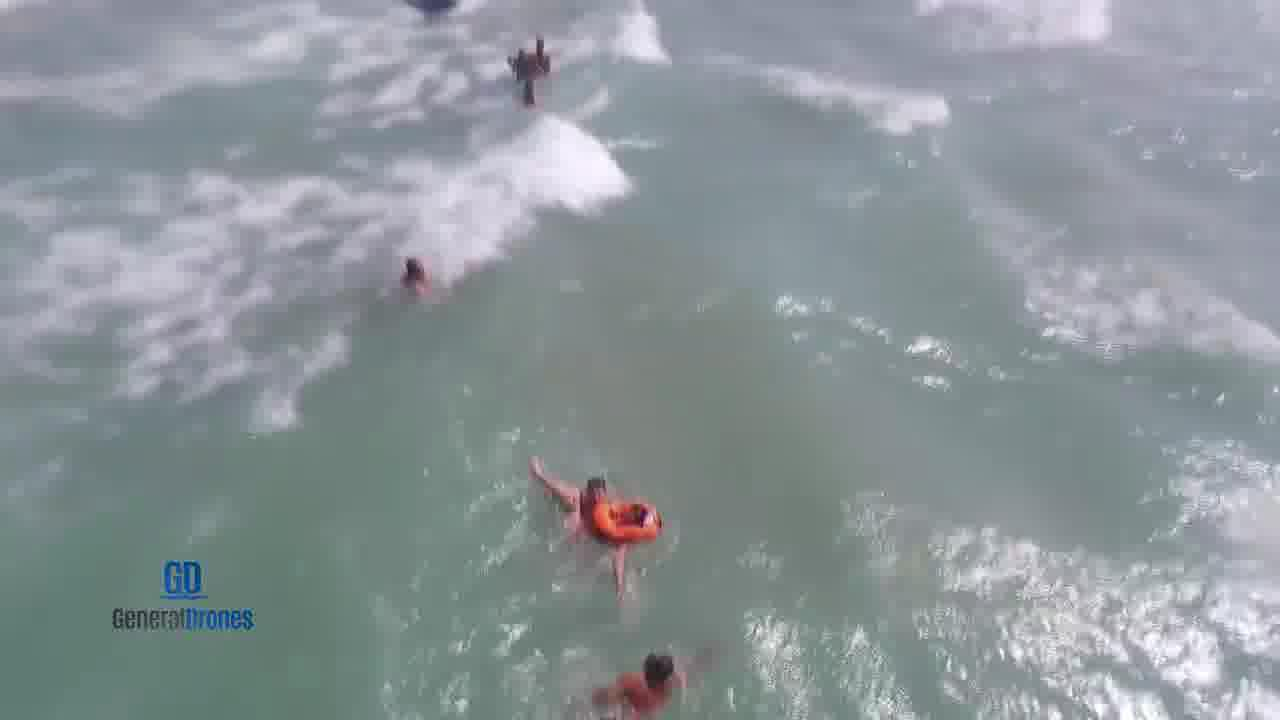swimmer: (516, 448, 668, 592), (585, 636, 721, 720), (384, 252, 455, 310), (569, 459, 636, 517)
